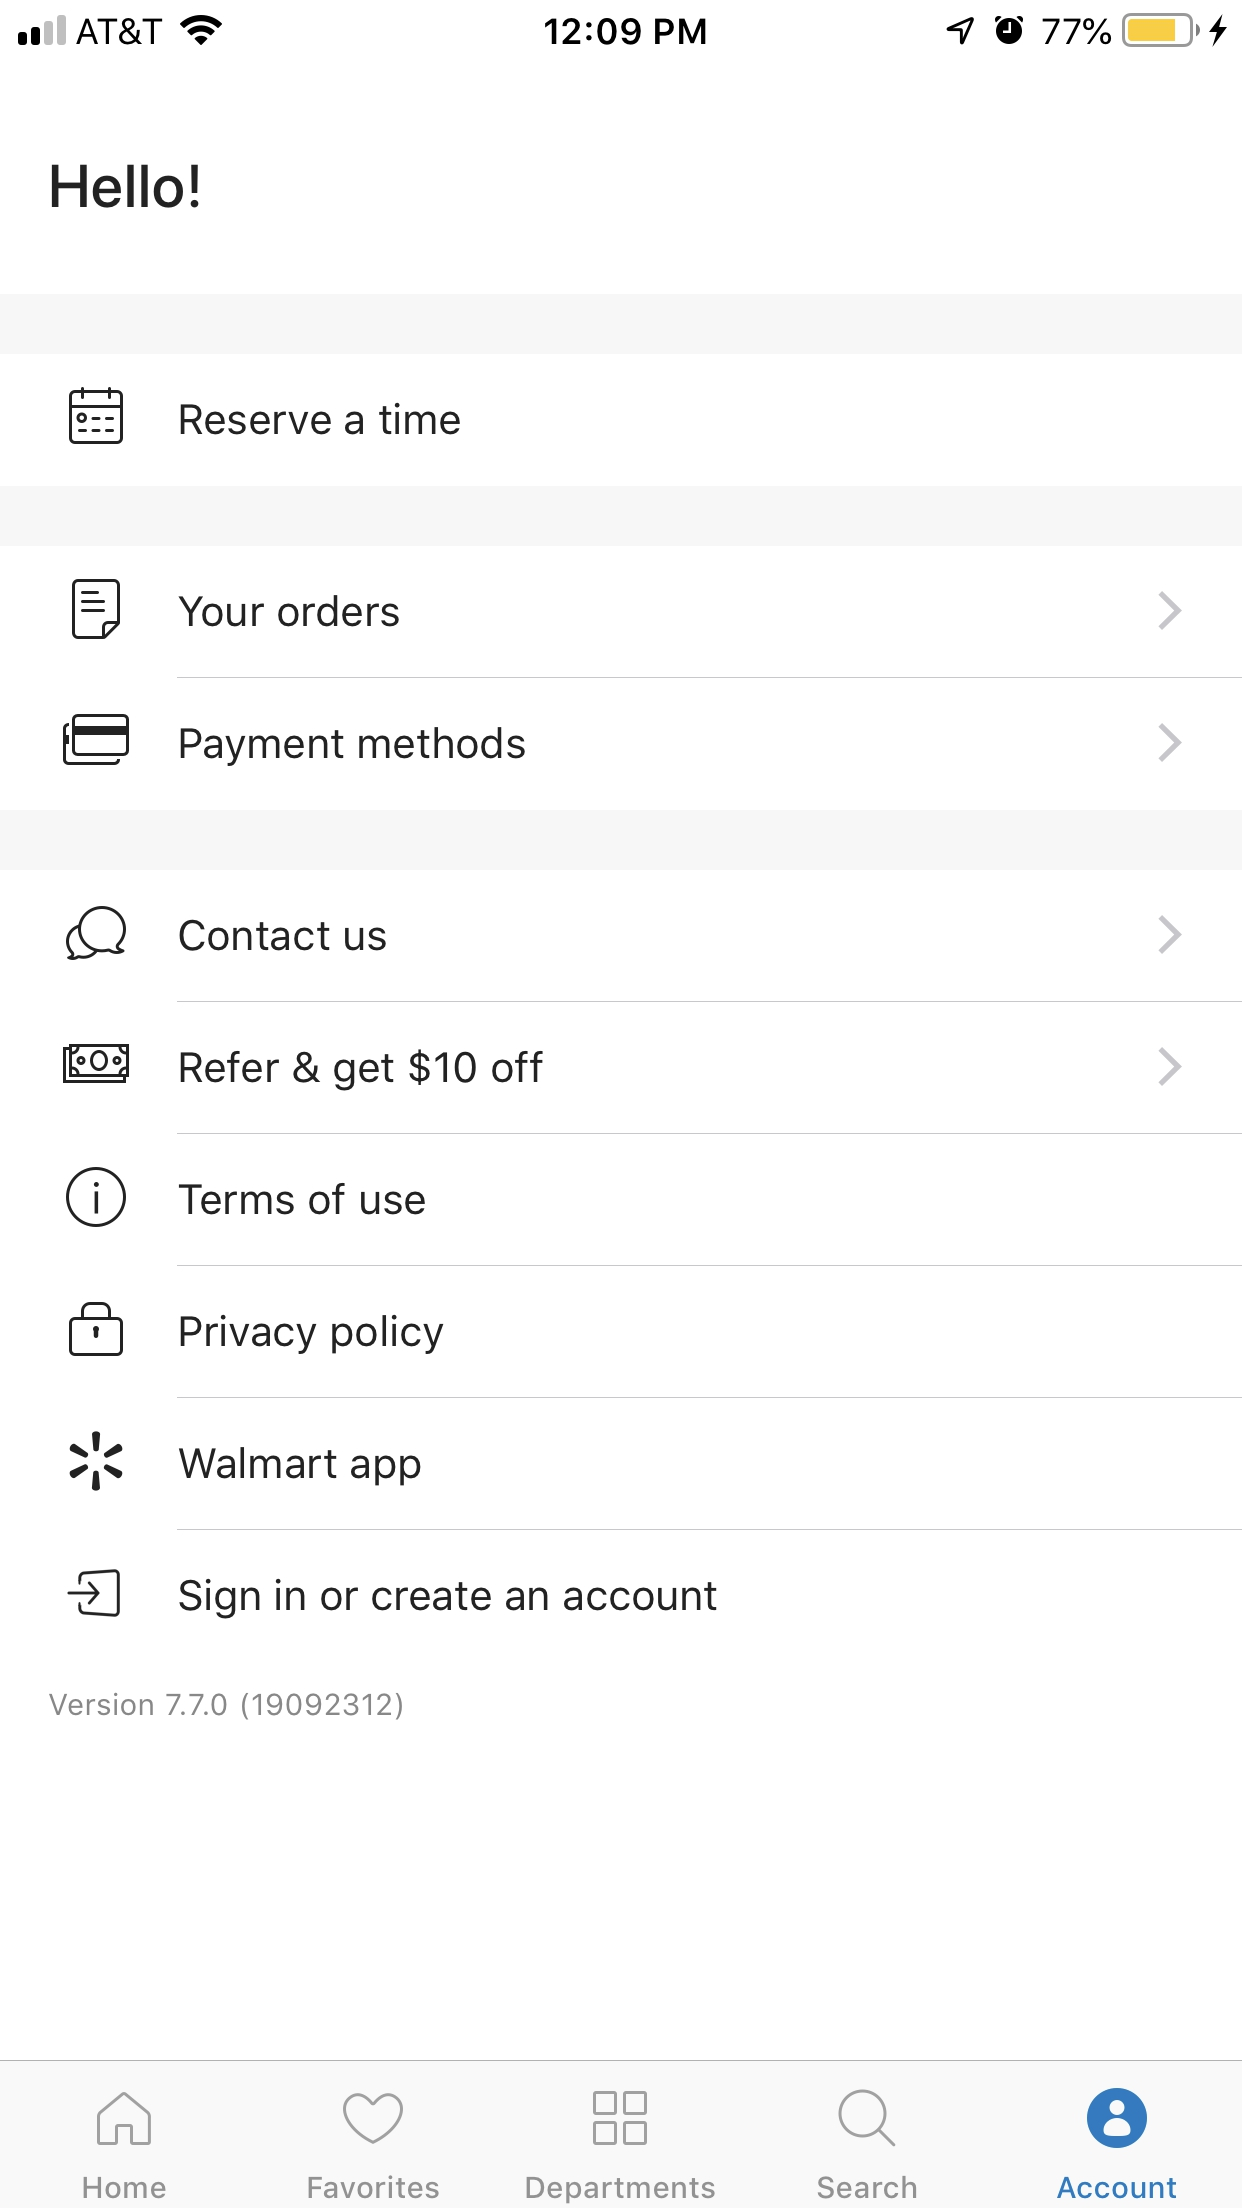Icon: (1086, 2087, 1148, 2149), (67, 1168, 127, 1228), (64, 714, 130, 766), (67, 905, 127, 961), (839, 2090, 896, 2147), (70, 387, 124, 446), (343, 2093, 403, 2144), (593, 2090, 648, 2146), (97, 2091, 153, 2146), (71, 579, 121, 640), (70, 1303, 124, 1357), (64, 1043, 130, 1084), (68, 1570, 121, 1618), (1159, 1046, 1183, 1087), (1159, 914, 1183, 955), (1159, 591, 1183, 632), (1159, 723, 1183, 763)
Image: (70, 1432, 124, 1492)
Text: (179, 1579, 717, 1620), (180, 1049, 544, 1092), (180, 726, 526, 767), (180, 1313, 444, 1356), (179, 1447, 422, 1488), (49, 1692, 403, 1720), (180, 403, 463, 437), (179, 1183, 426, 1216), (177, 594, 400, 628), (180, 919, 388, 952), (52, 164, 200, 209), (526, 2176, 716, 2203), (308, 2175, 440, 2199), (1057, 2175, 1177, 2199), (817, 2175, 917, 2199), (83, 2176, 168, 2199)
UpperTaskBar: (2, 2, 1242, 49)
